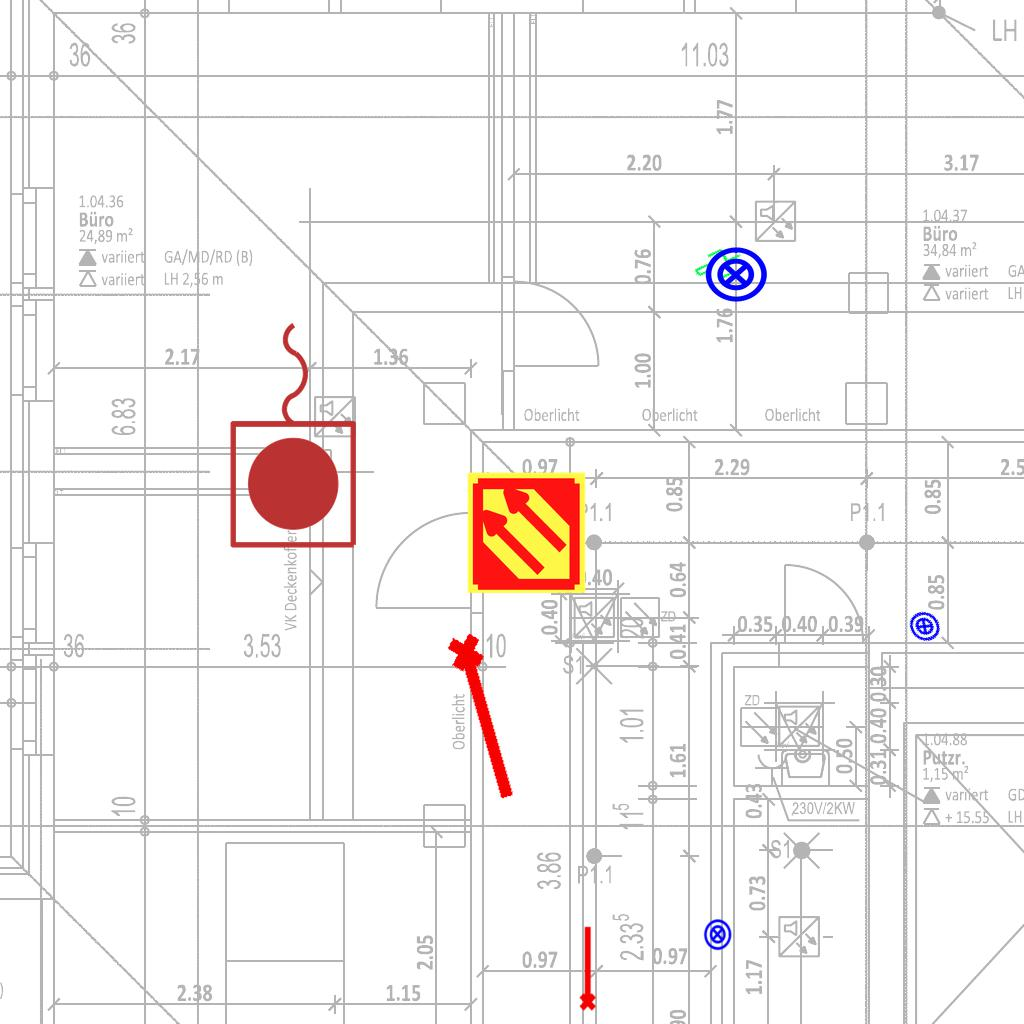ASR_Ansaugoeffnung: (440, 626, 534, 808), (575, 924, 598, 1012)
ASR_Ansaugrauchmelder: (464, 470, 589, 595)
Datenanschluss_einfach: (689, 240, 749, 292)
Taster_beleuchtet: (703, 242, 769, 308), (901, 603, 948, 650), (701, 918, 734, 951)
Zugtaster: (223, 312, 367, 556)
